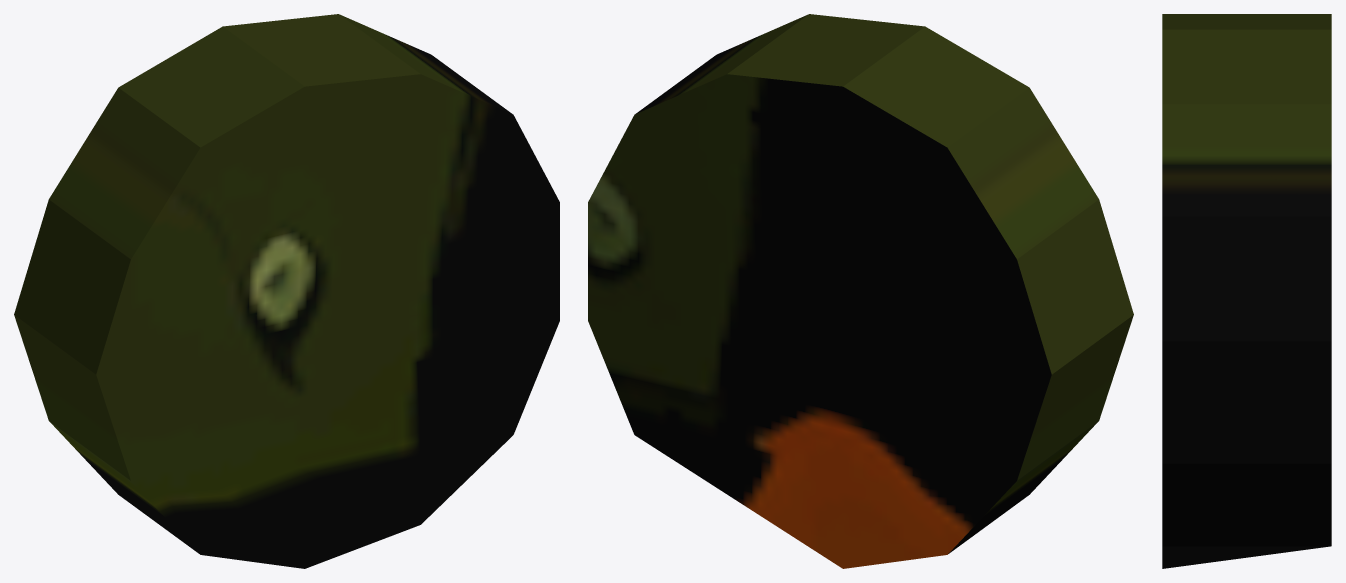
The model's file is MineWhel.glb.
The picture shows the model from 3 angles, left to right: view 1: azimuth 30°, elevation 25°; view 2: azimuth 150°, elevation 25°; view 3: azimuth 270°, elevation 25°; orthographic projection. The views are drawn at different scales.
Visible parts, largest first — view 1: MineWhel; view 2: MineWhel; view 3: MineWhel.
Boxes of the visible parts, x1,y1,x2,y2 form: MineWhel: [14, 14, 559, 568]; MineWhel: [588, 14, 1133, 568]; MineWhel: [1162, 14, 1331, 568].
Bounding box in the file's own units: 65.27 × 64.87 × 20.03.
Materials: 1 (1 with a texture image).
